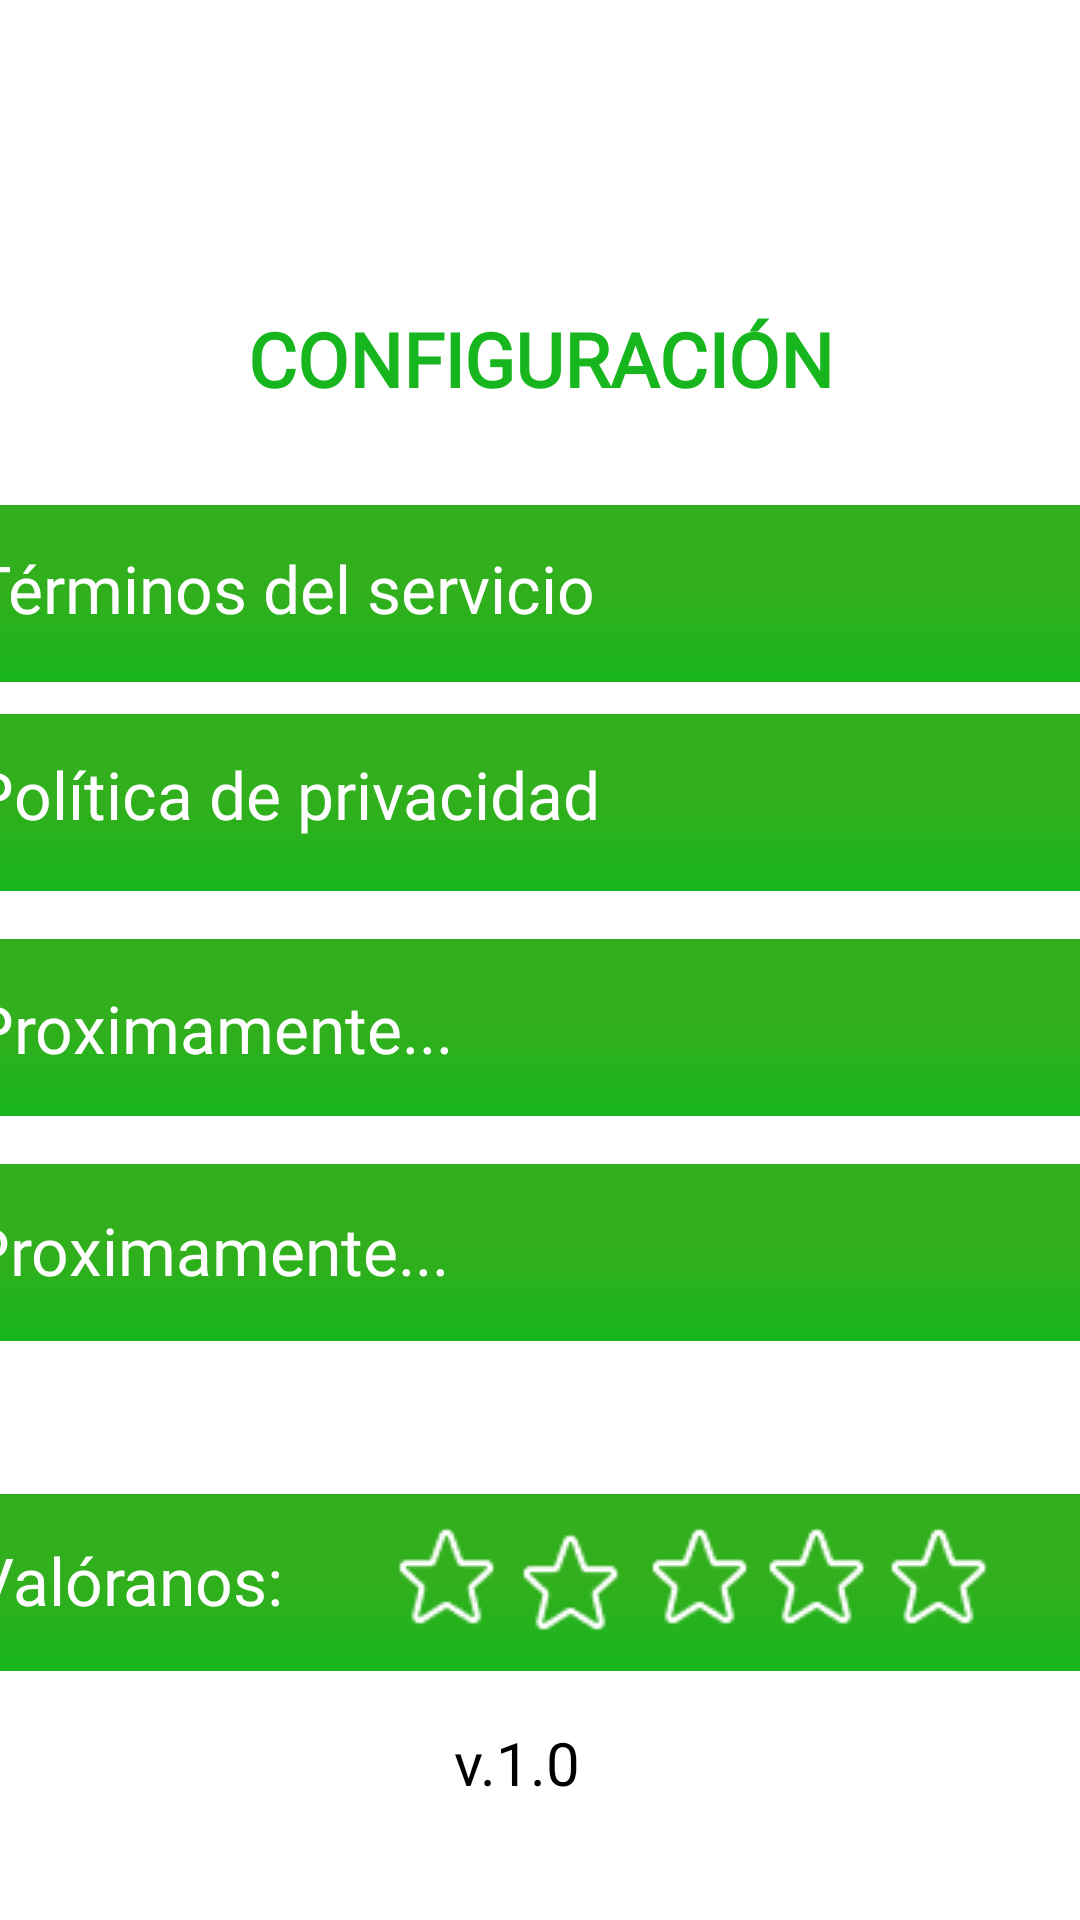

Screen size 1080 × 1920. Icon name, then its center in pixels as (x=x, y=y):
star: (x=447, y=1576), (x=700, y=1576), (x=817, y=1576), (x=939, y=1576), (x=571, y=1582)
